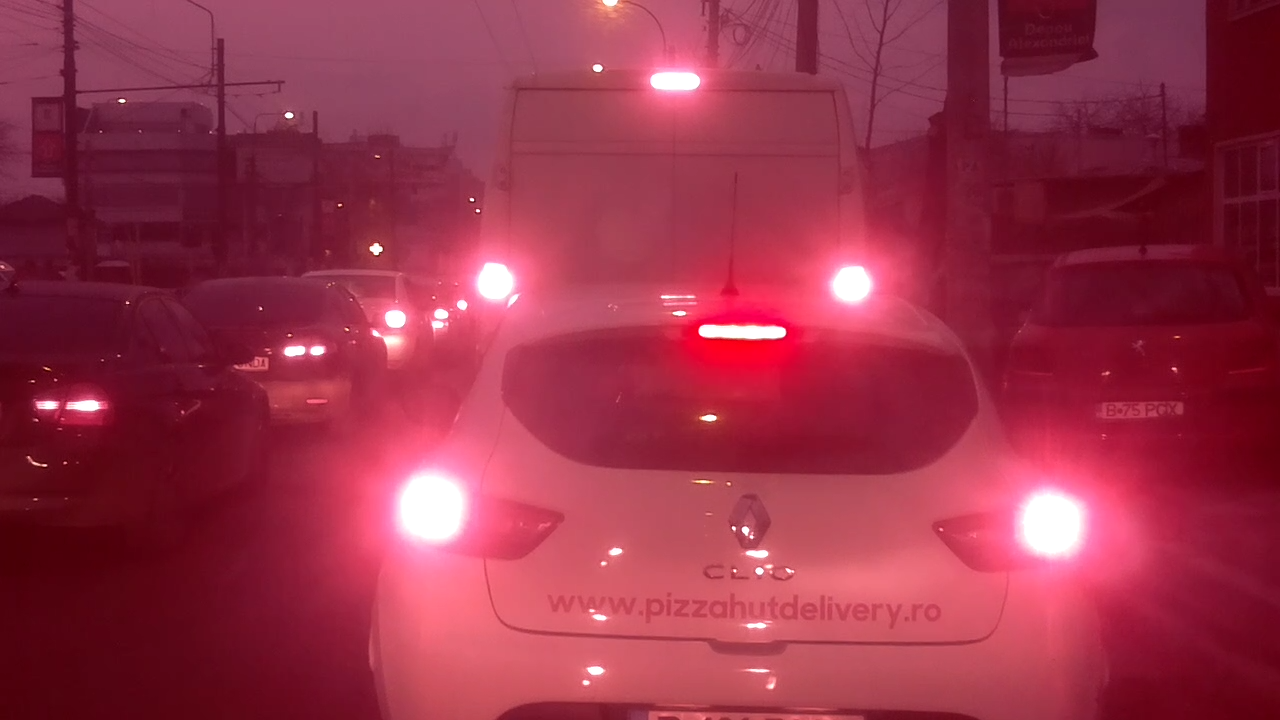license-plate: (1088, 397, 1189, 421)
